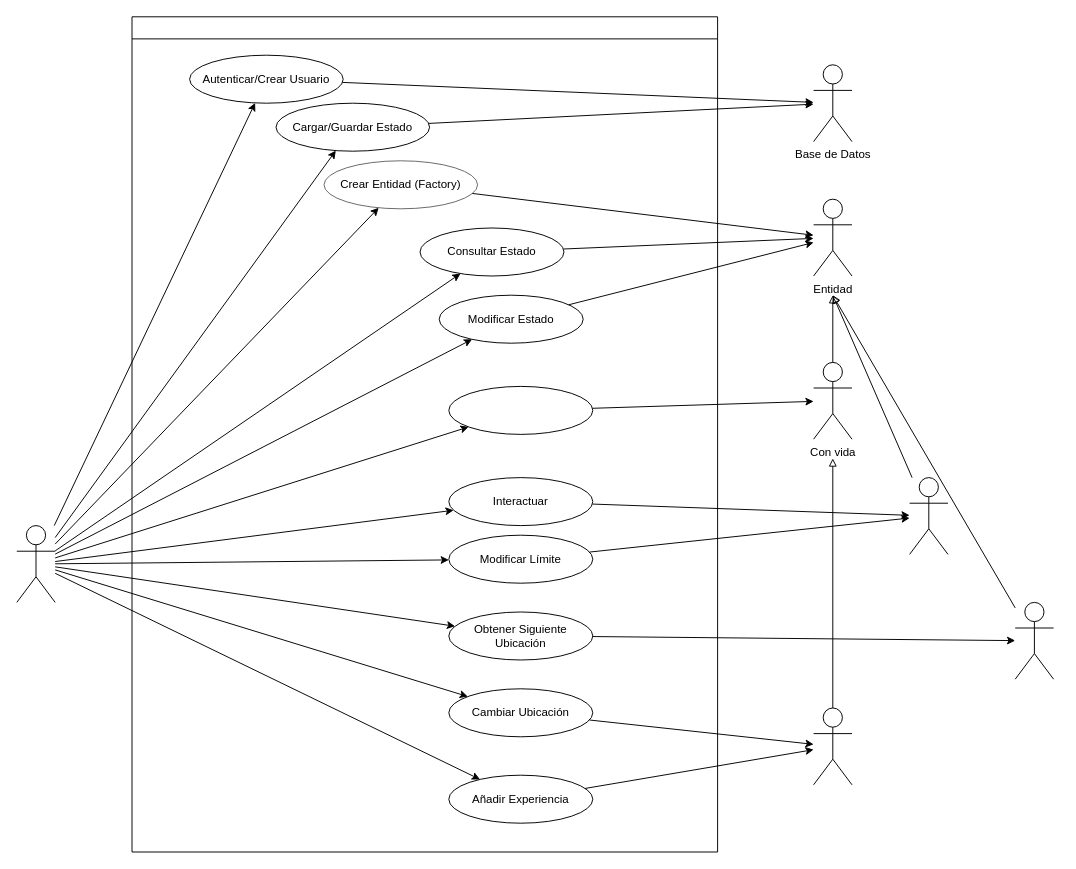
Some shapes in this 1076 by 869 pixel diagram are drawn without their labels. Each missing label, with the box of its shape:
Engine API: (131, 16, 718, 852)
Herir: (448, 385, 593, 434)
Juego: (16, 525, 55, 602)
NPC: (909, 477, 948, 554)
Personaje: (813, 707, 852, 785)
Ubicación: (1014, 601, 1054, 679)
